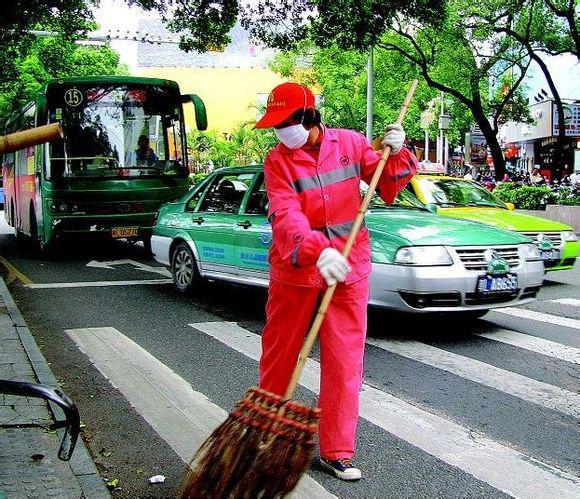OK: (272, 112, 309, 149)
